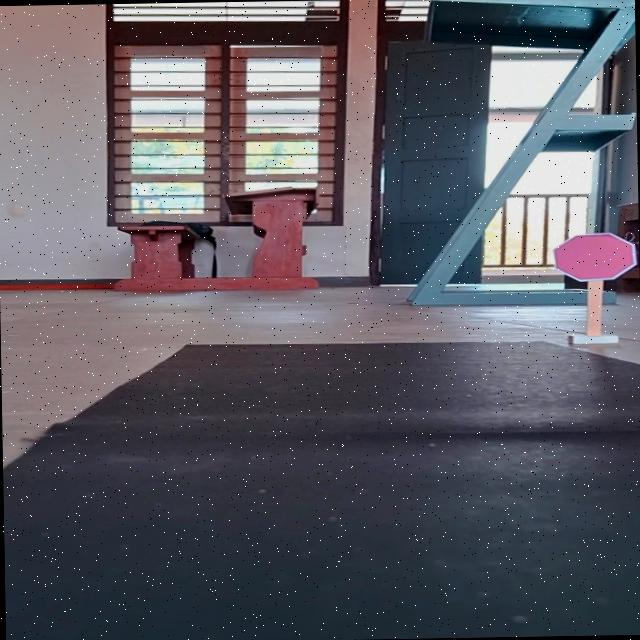Stop: (550, 231, 640, 282)
